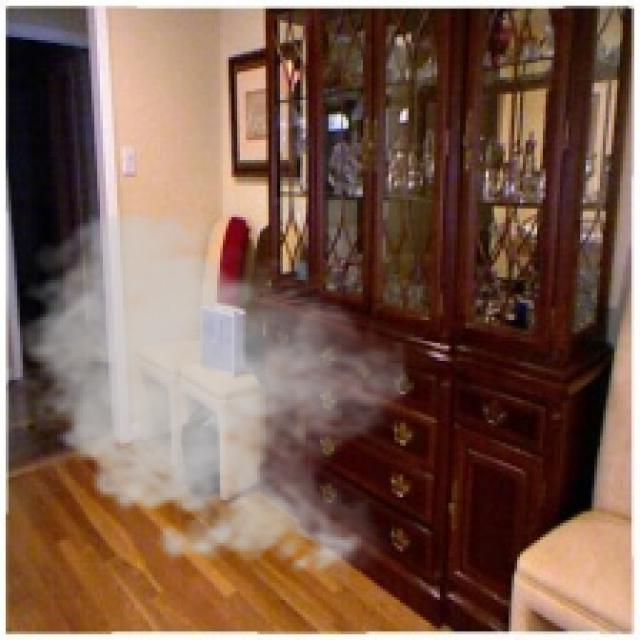smoke: (6, 203, 408, 586)
